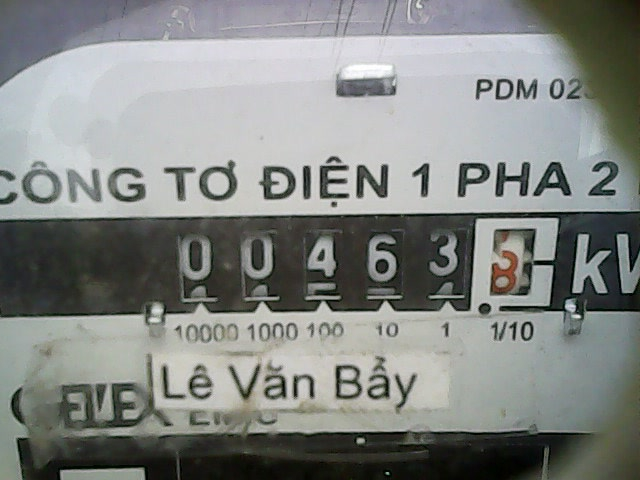phy_plate: (169, 210, 567, 316)
